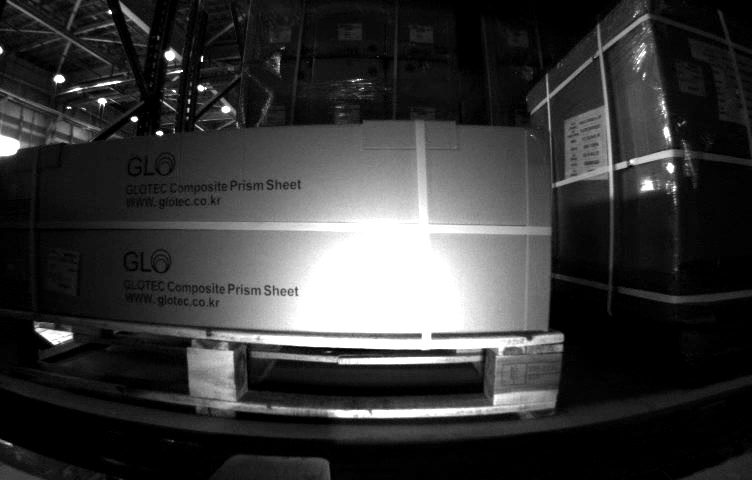True Barcode: (39, 251, 76, 295), (673, 58, 705, 100)
